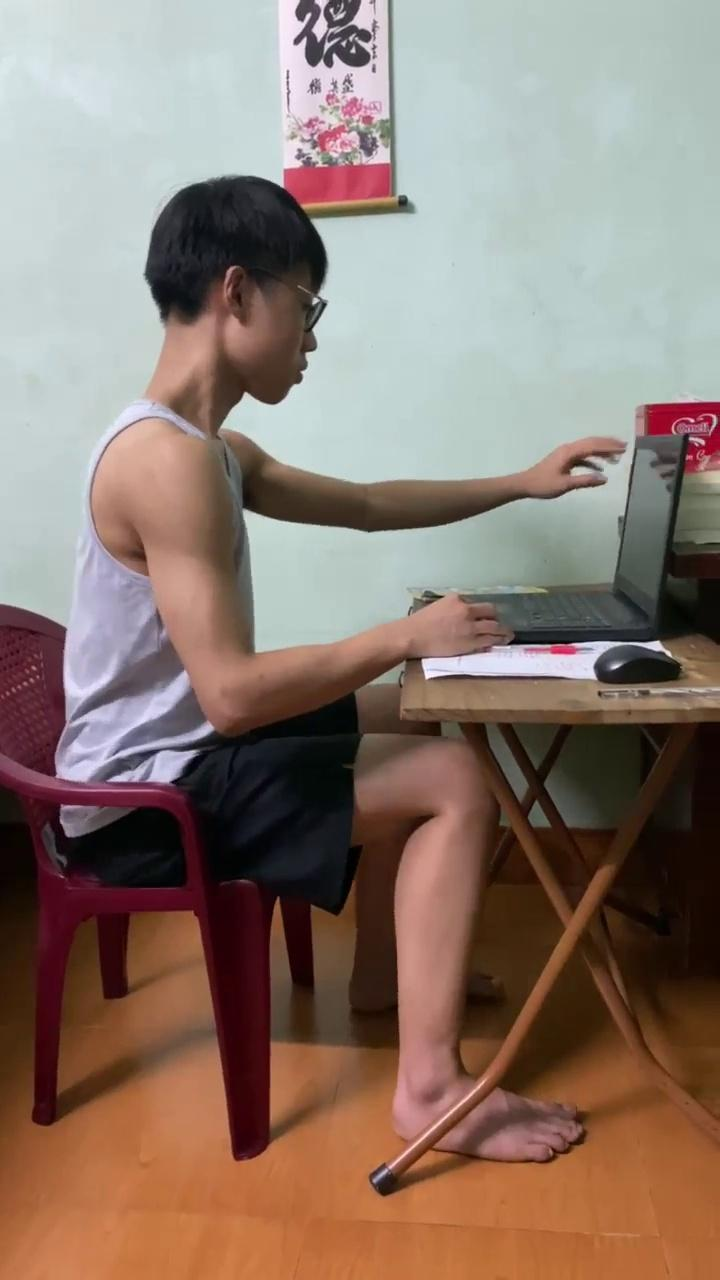GoodPosture: (75, 172, 625, 1135)
